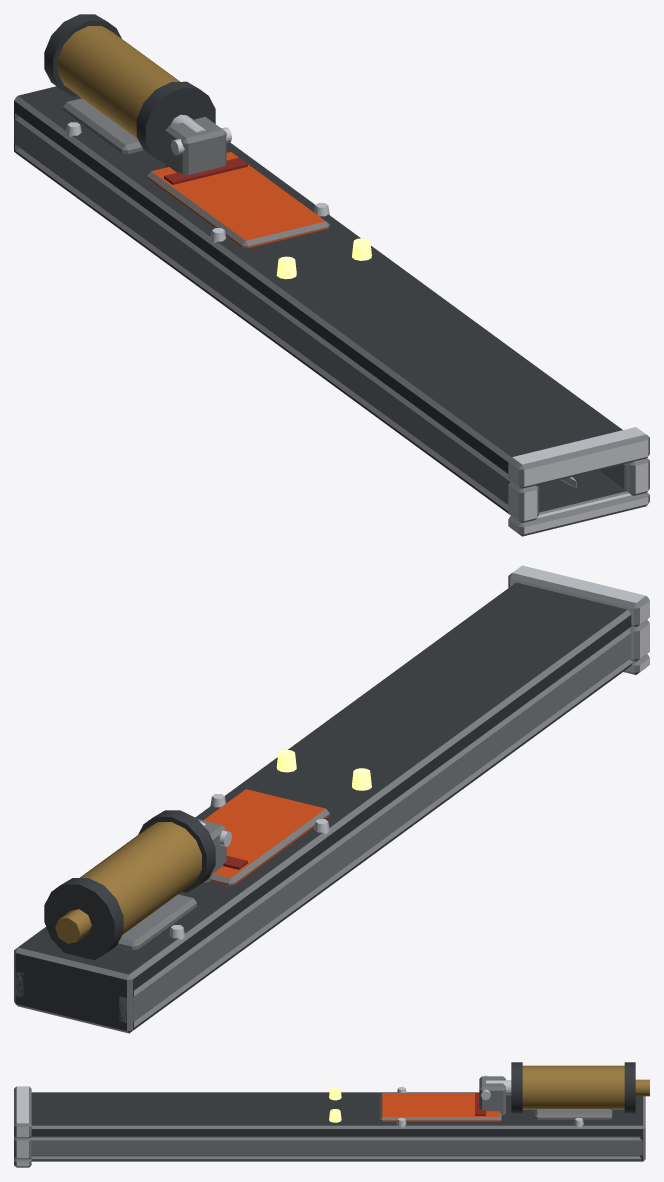
Rendered from gauntlet_blade.fbx.
The picture shows the model from 3 angles, top to bottom: view 1: azimuth 30°, elevation 25°; view 2: azimuth 150°, elevation 25°; view 3: azimuth 270°, elevation 25°; orthographic projection. The views are drawn at different scales.
Visible parts, largest first — view 1: Mesh_WristBlade_Sheath, Mesh_WristBlade_Actuator, Mesh_WristBlade_Mouth, Mesh_WristBlade_Cover, Mesh_WristBlade_Lamps; view 2: Mesh_WristBlade_Sheath, Mesh_WristBlade_Actuator, Mesh_WristBlade_Cover, Mesh_WristBlade_Mouth, Mesh_WristBlade_Lamps; view 3: Mesh_WristBlade_Sheath, Mesh_WristBlade_Actuator, Mesh_WristBlade_Cover, Mesh_WristBlade_Mouth, Mesh_WristBlade_Lamps.
Boxes of the visible parts, x1,y1,x2,y2 form: Mesh_WristBlade_Sheath: [14, 86, 628, 515]; Mesh_WristBlade_Actuator: [44, 14, 231, 174]; Mesh_WristBlade_Mouth: [508, 427, 649, 536]; Mesh_WristBlade_Cover: [147, 152, 329, 248]; Mesh_WristBlade_Lamps: [276, 238, 371, 279]; Mesh_WristBlade_Sheath: [14, 582, 632, 1033]; Mesh_WristBlade_Actuator: [44, 810, 231, 959]; Mesh_WristBlade_Cover: [203, 789, 329, 885]; Mesh_WristBlade_Mouth: [508, 565, 649, 674]; Mesh_WristBlade_Lamps: [276, 750, 371, 790]; Mesh_WristBlade_Sheath: [30, 1087, 645, 1161]; Mesh_WristBlade_Actuator: [479, 1062, 649, 1119]; Mesh_WristBlade_Cover: [379, 1092, 501, 1121]; Mesh_WristBlade_Mouth: [14, 1086, 31, 1167]; Mesh_WristBlade_Lamps: [329, 1086, 341, 1122].
Size of the model in its own units: 8.4 by 8.4 by 57.4.
